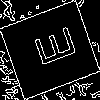E: (24, 25, 78, 72)
